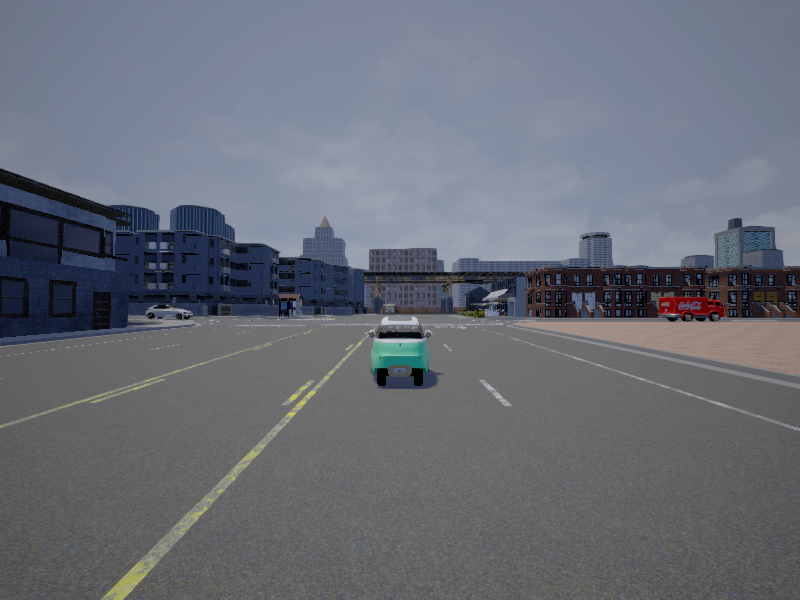Benign: (369, 315, 432, 387), (660, 296, 726, 322), (145, 304, 193, 321)
